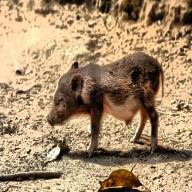boar: (47, 50, 164, 153)
